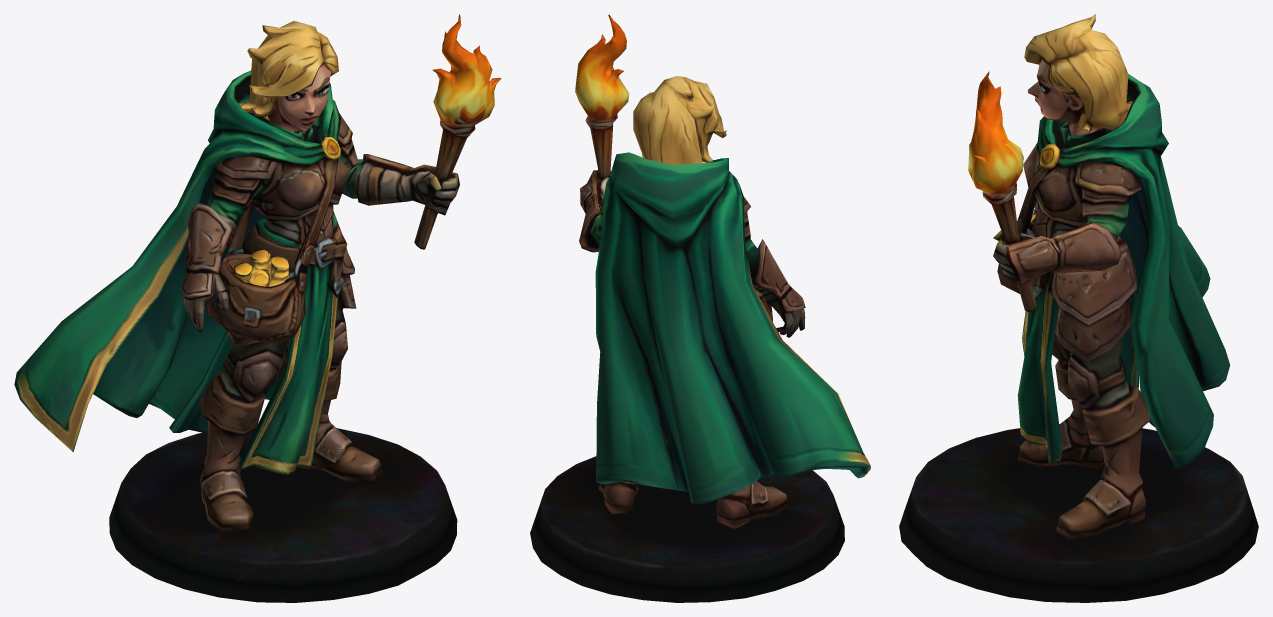
Rendered from hero3.glb.
3 views of the same model, side by side, from view 1: azimuth 30°, elevation 25°; view 2: azimuth 150°, elevation 25°; view 3: azimuth 270°, elevation 25° (orthographic). The views are drawn at different scales.
Visible parts, largest first — view 1: geometry_0; view 2: geometry_0; view 3: geometry_0.
Boxes of the visible parts, x1,y1,x2,y2 form: geometry_0: (14, 14, 501, 602); geometry_0: (530, 14, 870, 602); geometry_0: (899, 14, 1258, 602).
Size of the model in its own units: 0.767 by 0.9541 by 0.5952.
Materials: 1 (1 with a texture image).
